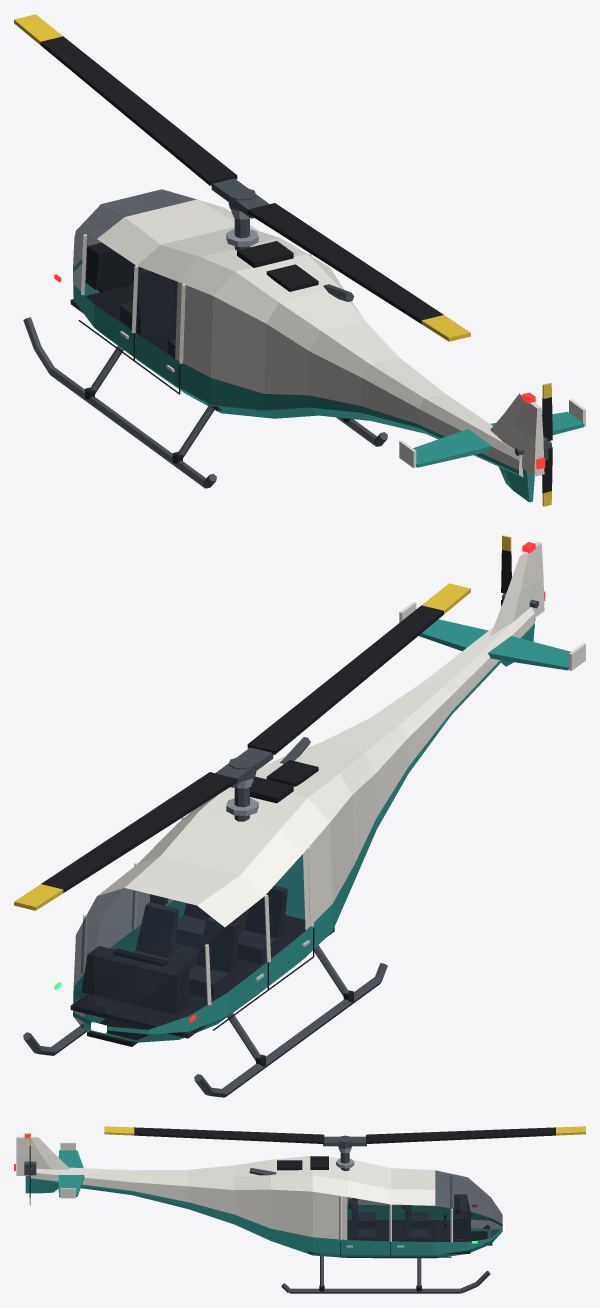
File: heli_civil.glb
3 views of the same model, one above another, from view 1: azimuth 30°, elevation 25°; view 2: azimuth 150°, elevation 25°; view 3: azimuth 270°, elevation 25° (orthographic). The views are drawn at different scales.
Parts seen in each view (by area): view 1: Body, RotorMain, RotorTail; view 2: Body, RotorMain; view 3: Body, RotorMain.
Boxes of the visible parts, x1=… form: Body: x1=23, y1=189, x2=585, y2=502; RotorMain: x1=14, y1=14, x2=470, y2=341; RotorTail: x1=542, y1=382, x2=552, y2=506; Body: x1=23, y1=541, x2=585, y2=1097; RotorMain: x1=14, y1=583, x2=470, y2=910; Body: x1=14, y1=1133, x2=504, y2=1293; RotorMain: x1=104, y1=1126, x2=585, y2=1153.
Bounding box in the file's own units: 2.5 × 3.35 × 12.35.
